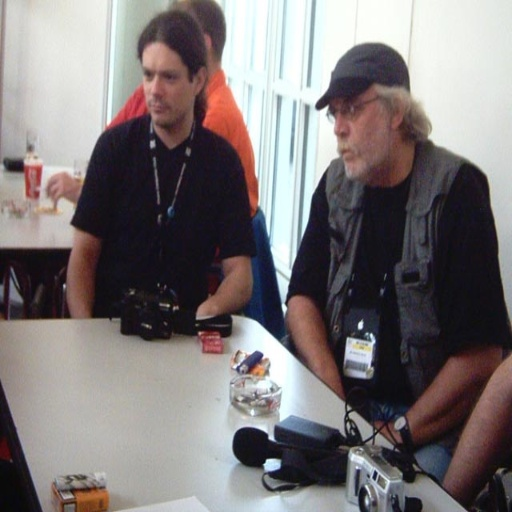hand: (42, 168, 80, 210), (369, 419, 404, 448)
